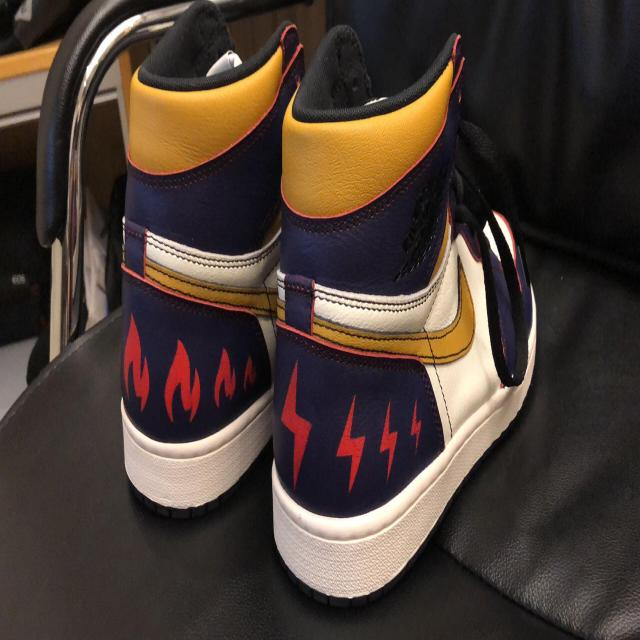shoe: (272, 21, 538, 612), (117, 7, 274, 523)
